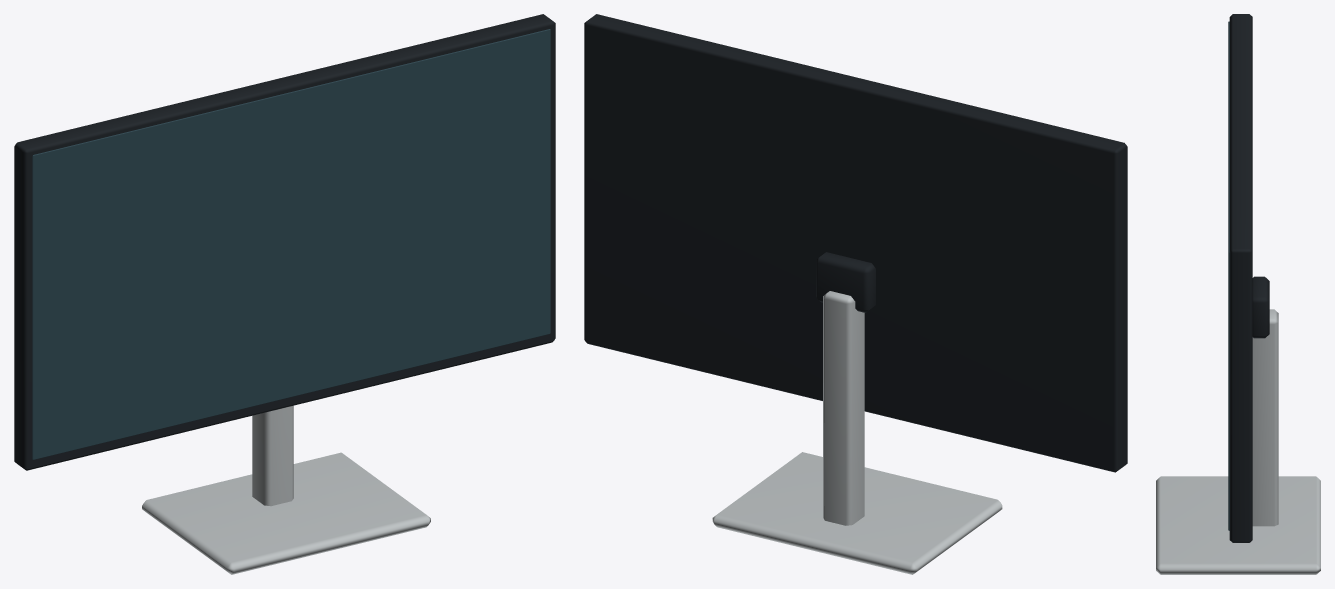
3 views of the same model, side by side, from view 1: azimuth 30°, elevation 25°; view 2: azimuth 150°, elevation 25°; view 3: azimuth 270°, elevation 25° (orthographic). The views are drawn at different scales.
Visible parts, largest first — view 1: Neutral screen, Stand base, Monitor bezel; view 2: Monitor bezel, Stand base; view 3: Stand base, Monitor bezel, Neutral screen.
Part boxes in pixels (left/top/right/bottom): Neutral screen: left=32, top=29, right=550, bottom=459; Stand base: left=142, top=405, right=430, bottom=574; Monitor bezel: left=14, top=14, right=555, bottom=470; Monitor bezel: left=584, top=14, right=1127, bottom=472; Stand base: left=712, top=291, right=1002, bottom=574; Stand base: left=1156, top=309, right=1320, bottom=574; Monitor bezel: left=1229, top=14, right=1269, bottom=542; Neutral screen: left=1228, top=21, right=1229, bottom=530.
Bounding box in the file's own units: 0.614 × 0.4825 × 0.18.
